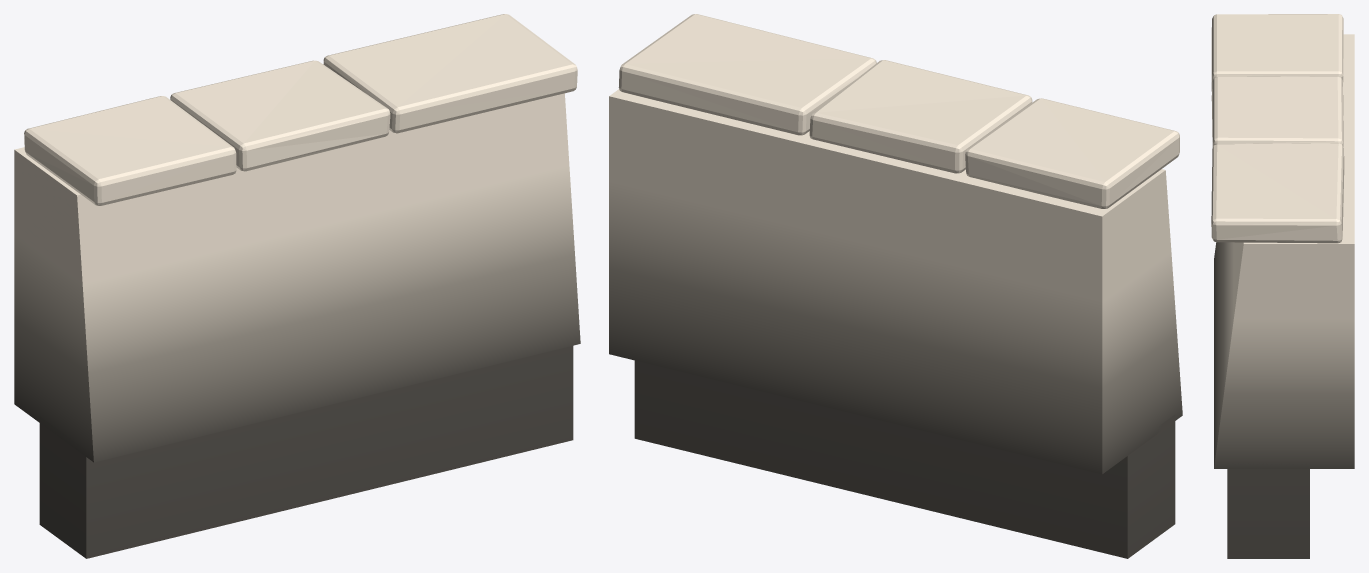
File: SM_VK_RetainingWall.fbx
3 renders of one model, left to right at view 1: azimuth 30°, elevation 25°; view 2: azimuth 150°, elevation 25°; view 3: azimuth 270°, elevation 25°, orthographic. The views are drawn at different scales.
Visible parts, largest first — view 1: SM_VK_RetainingWall.001; view 2: SM_VK_RetainingWall.001; view 3: SM_VK_RetainingWall.001.
Part boxes in pixels (x1,y1,x2,y2): SM_VK_RetainingWall.001: (14, 14, 580, 558); SM_VK_RetainingWall.001: (609, 14, 1182, 558); SM_VK_RetainingWall.001: (1211, 14, 1354, 558).
Size of the model in its own units: 3 by 2.26 by 0.8656.
